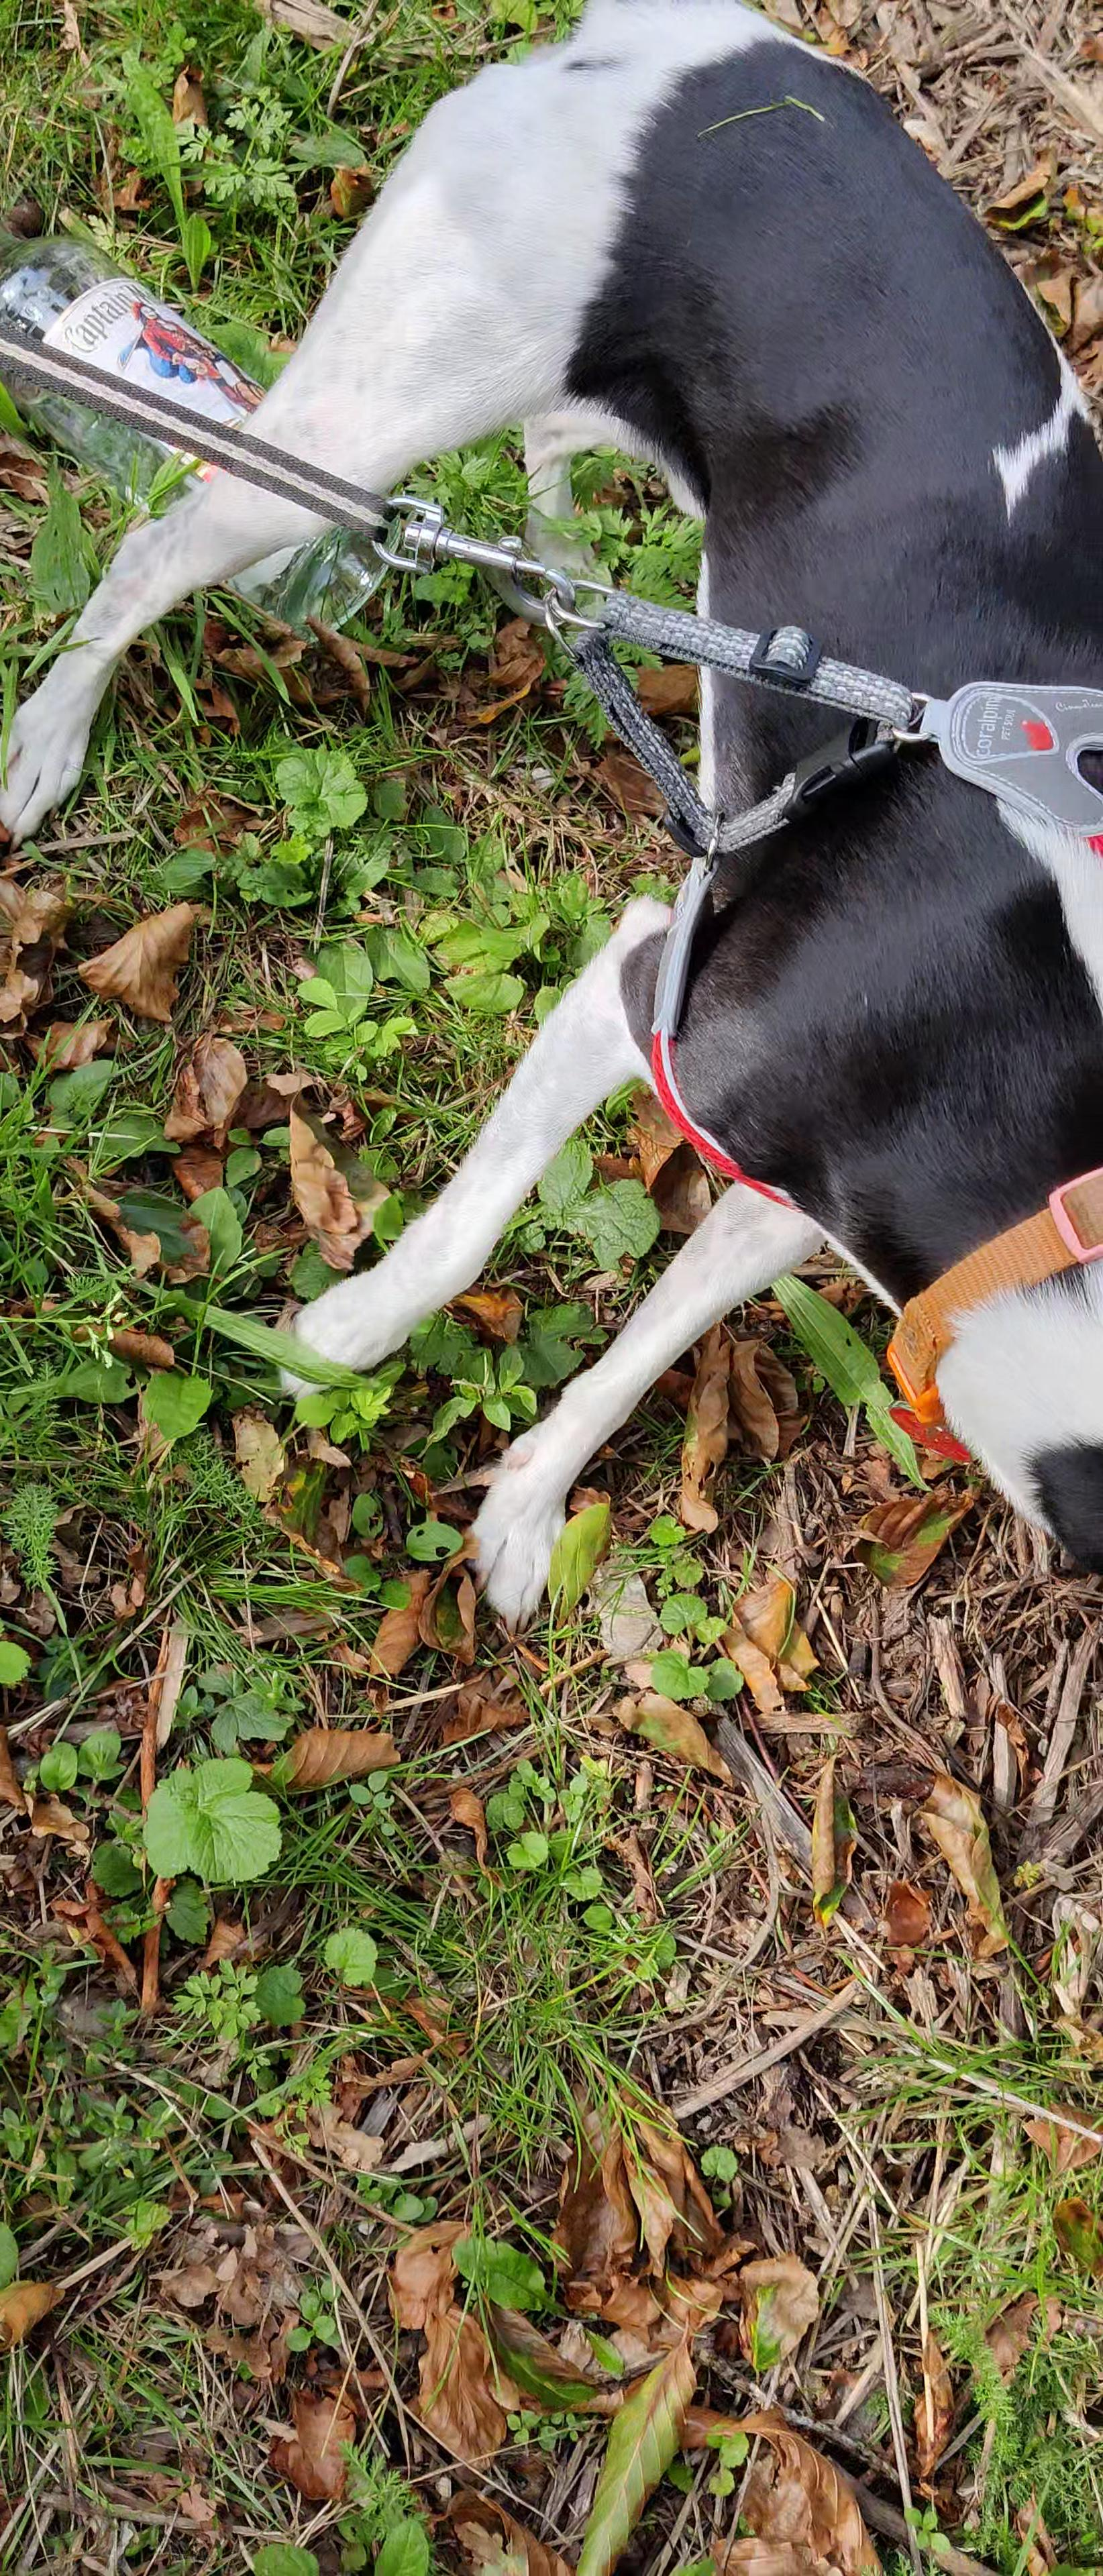Dog: (0, 0, 1103, 1671)
